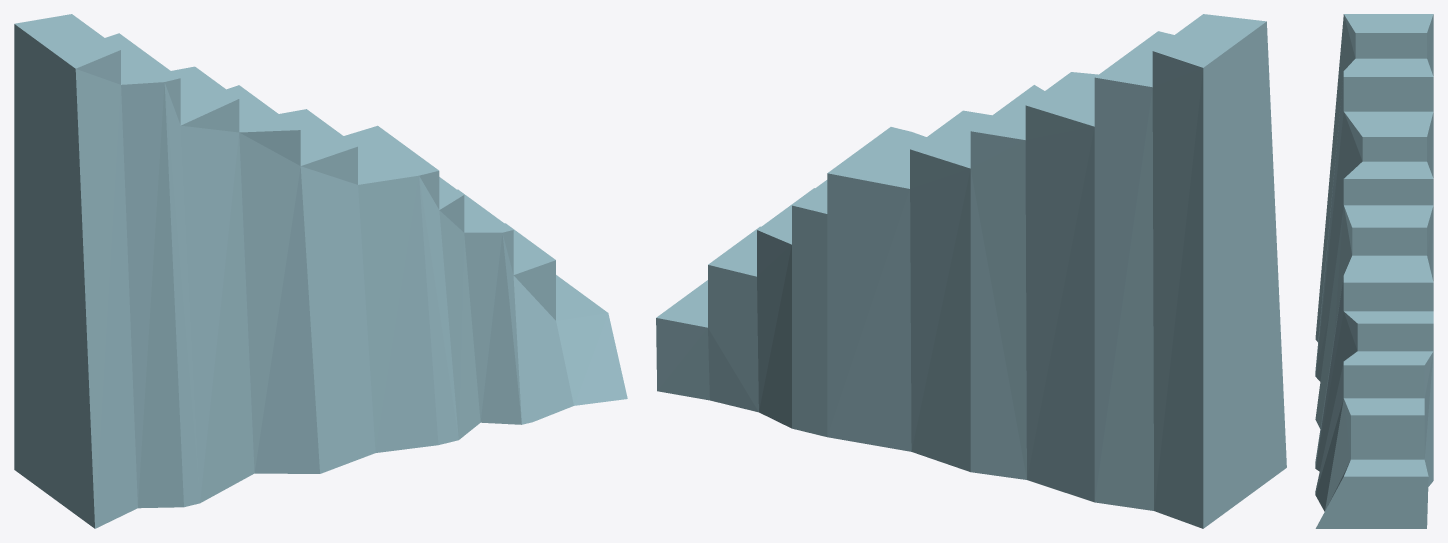
Rendered from Terrain_Tile_Ice_Stairs_02.fbx.
3 renders of one model, left to right at view 1: azimuth 30°, elevation 25°; view 2: azimuth 150°, elevation 25°; view 3: azimuth 270°, elevation 25°, orthographic. The views are drawn at different scales.
Visible parts, largest first — view 1: Model; view 2: Model; view 3: Model.
Boxes of the visible parts, x1=… form: Model: x1=14, y1=14, x2=627, y2=528; Model: x1=656, y1=14, x2=1286, y2=528; Model: x1=1315, y1=14, x2=1433, y2=528.
Size of the model in its own units: 2500 by 2000 by 658.
